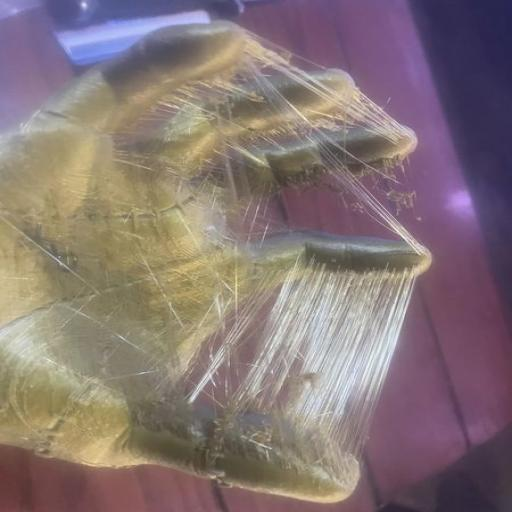stringing: (260, 254, 402, 443), (152, 44, 308, 150), (196, 306, 278, 400), (330, 152, 422, 232), (316, 95, 409, 146)
